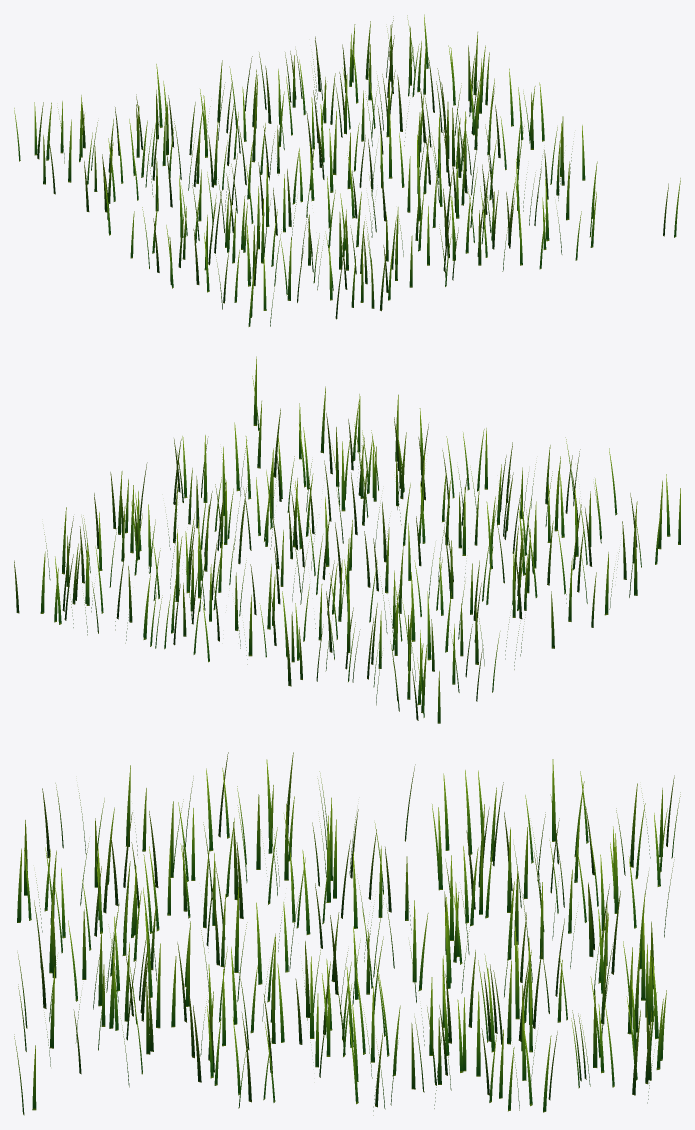
The model's file is grass_clump_vn.glb.
The picture shows the model from 3 angles, top to bottom: view 1: azimuth 30°, elevation 25°; view 2: azimuth 150°, elevation 25°; view 3: azimuth 270°, elevation 25°; orthographic projection. The views are drawn at different scales.
Parts seen in each view (by area): view 1: grass_clump_vn; view 2: grass_clump_vn; view 3: grass_clump_vn.
Boxes of the visible parts, x1,y1,x2,y2 form: grass_clump_vn: [14, 14, 680, 326]; grass_clump_vn: [14, 356, 680, 723]; grass_clump_vn: [14, 752, 680, 1115].
Bounding box in the file's own units: 1.6 × 0.22 × 1.6.
1 material, 1 textured.
